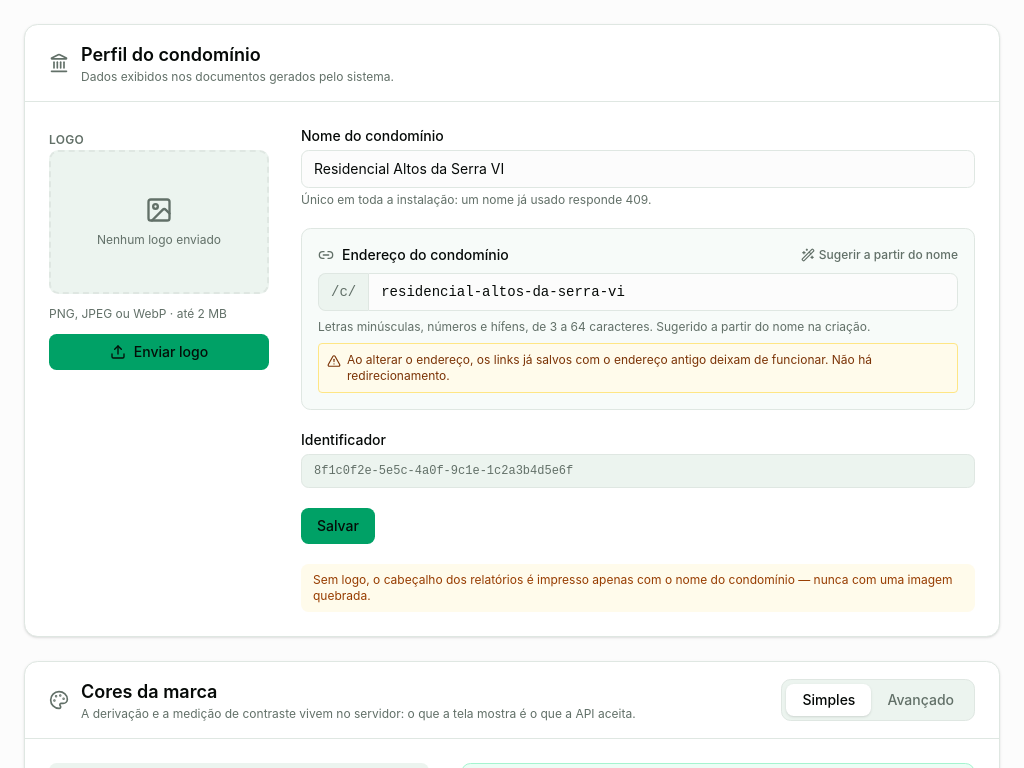
Test: TenantProfilePage — the slug (APRAS-66) › renders a field-level message when the server answers 409
Step 1. Replace the text in the field labelled "Endereço do condomínio" with "altos-da-serra" → coordinates (663, 292), box [368, 273, 958, 311]
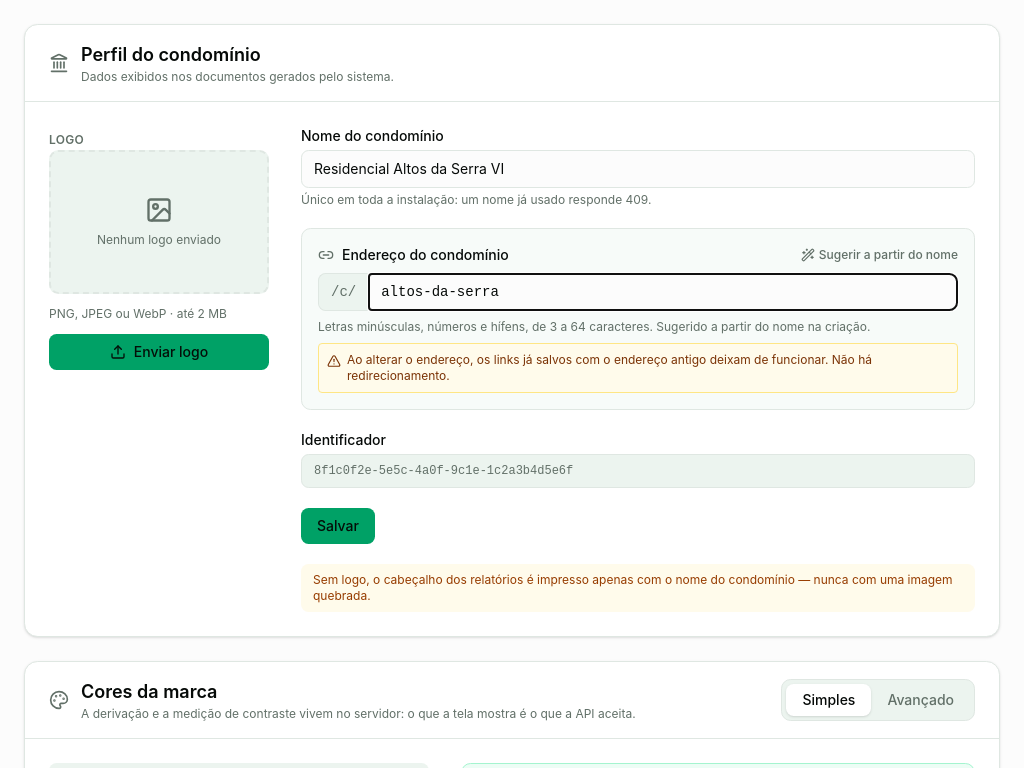
Step 2. Click the button "Salvar" → coordinates (338, 526), box [301, 508, 375, 544]
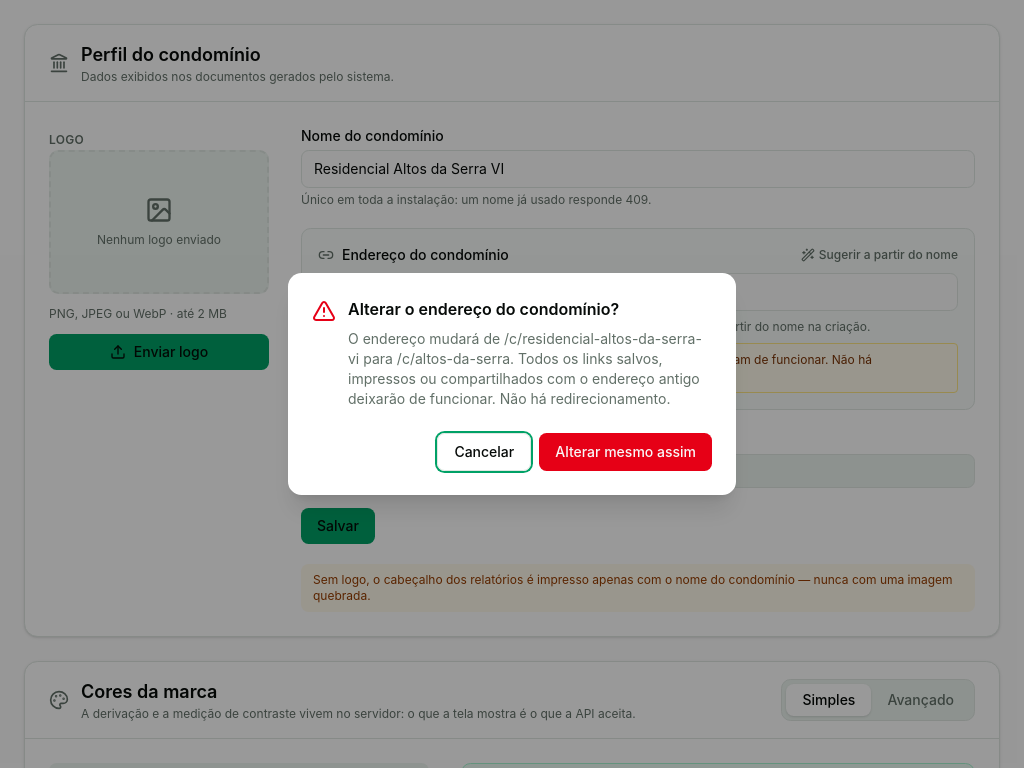
Step 3. Click the button "Alterar mesmo assim" → coordinates (626, 452), box [539, 433, 712, 471]
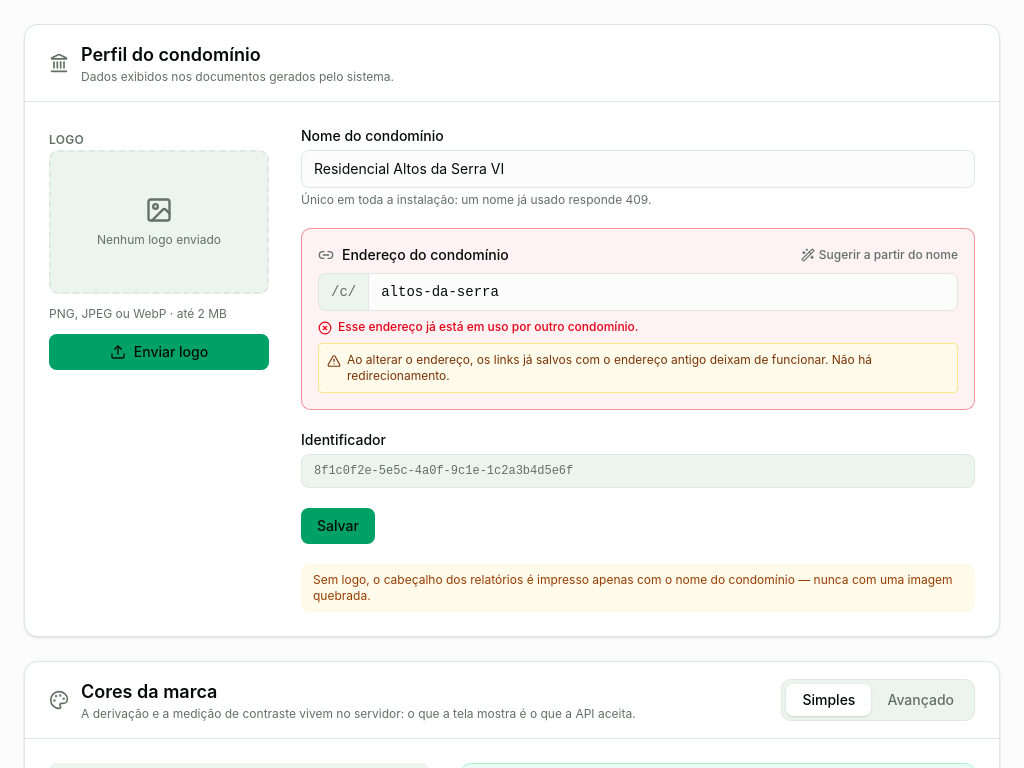
Expected: the text "Esse endereço já está em uso por outro condomínio." is shown, [338, 319, 638, 335]
